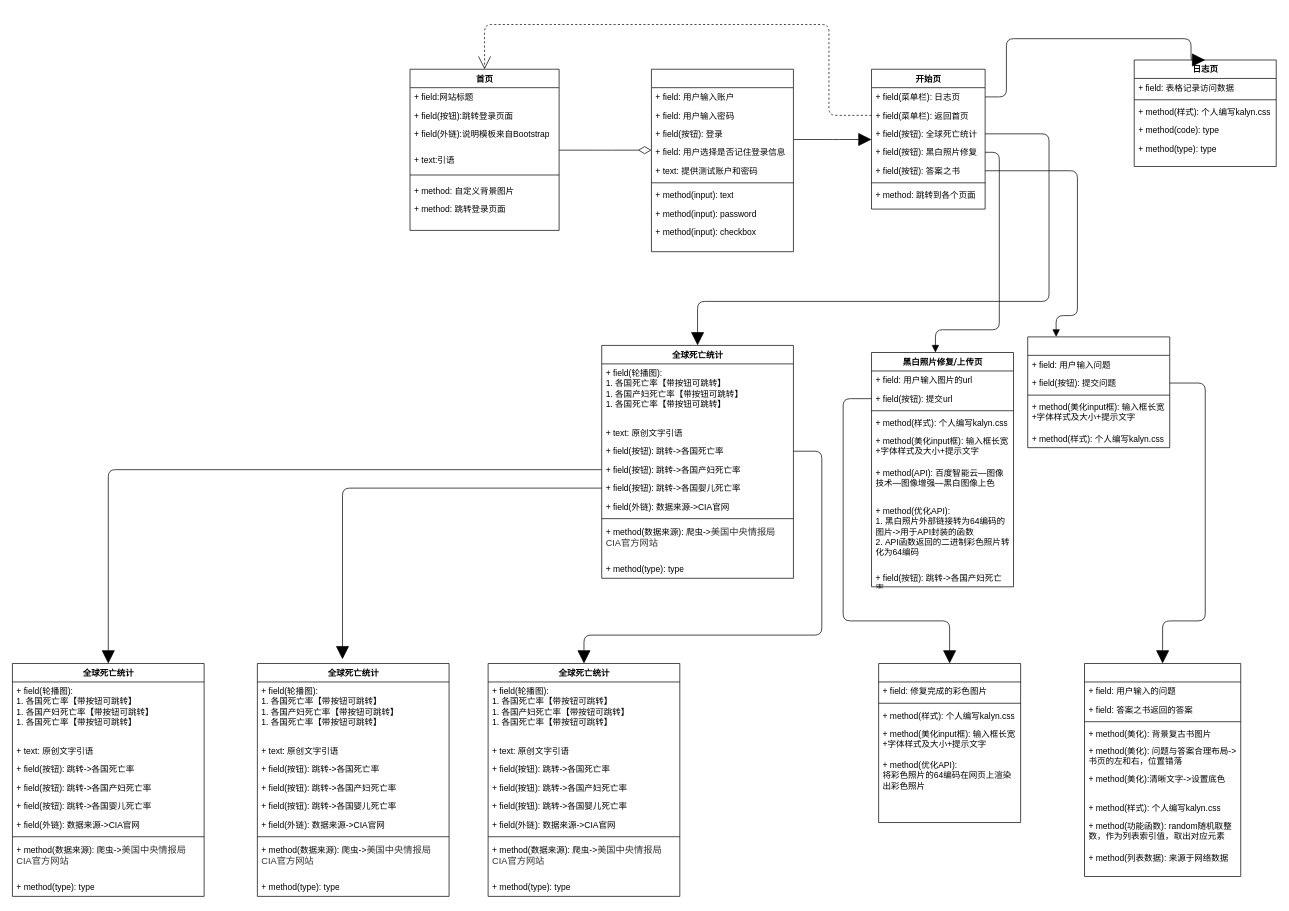
Some shapes in this 1289 by 911 pixel diagram are drawn without their labels. The box of each missing label's shape, as (x1, y1, x2, y2) in pixels:
登录页: (651, 69, 793, 252)
答案之书/回答页: (1084, 663, 1241, 876)
答案之书/提问页: (1027, 336, 1170, 448)
黑白照片修复/修复完成页: (878, 663, 1021, 823)
